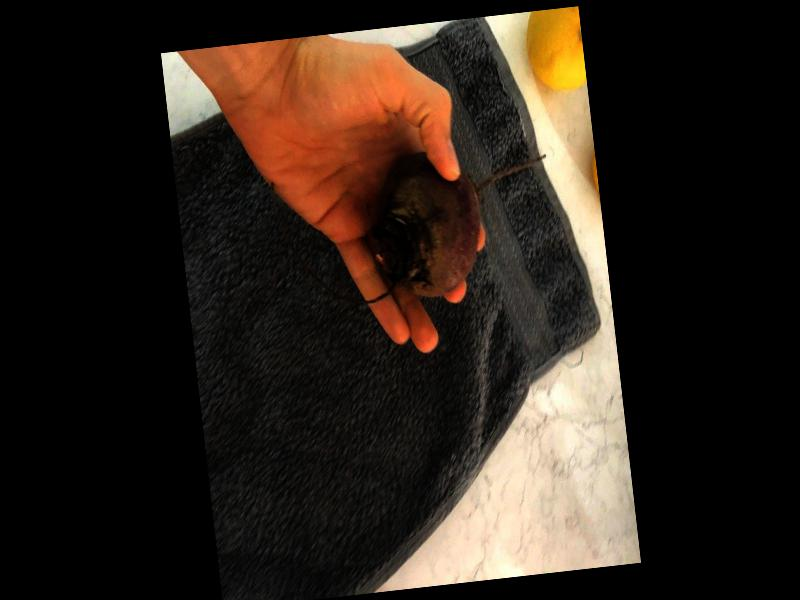Beet: (358, 138, 559, 301)
